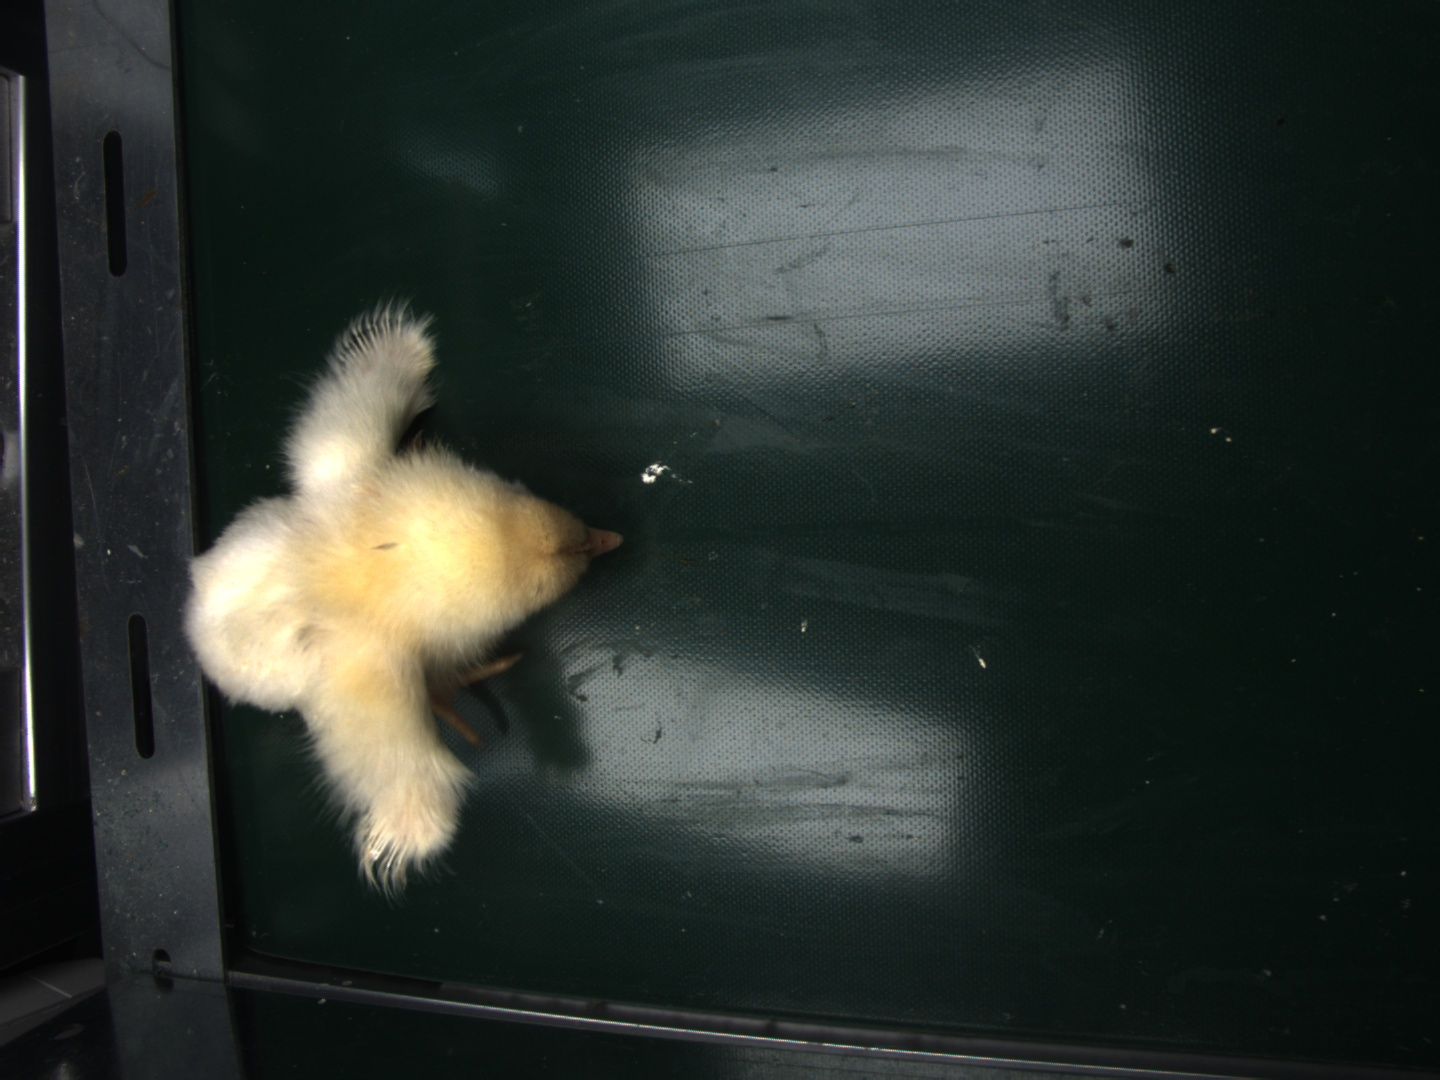male: (340, 317, 403, 368)
